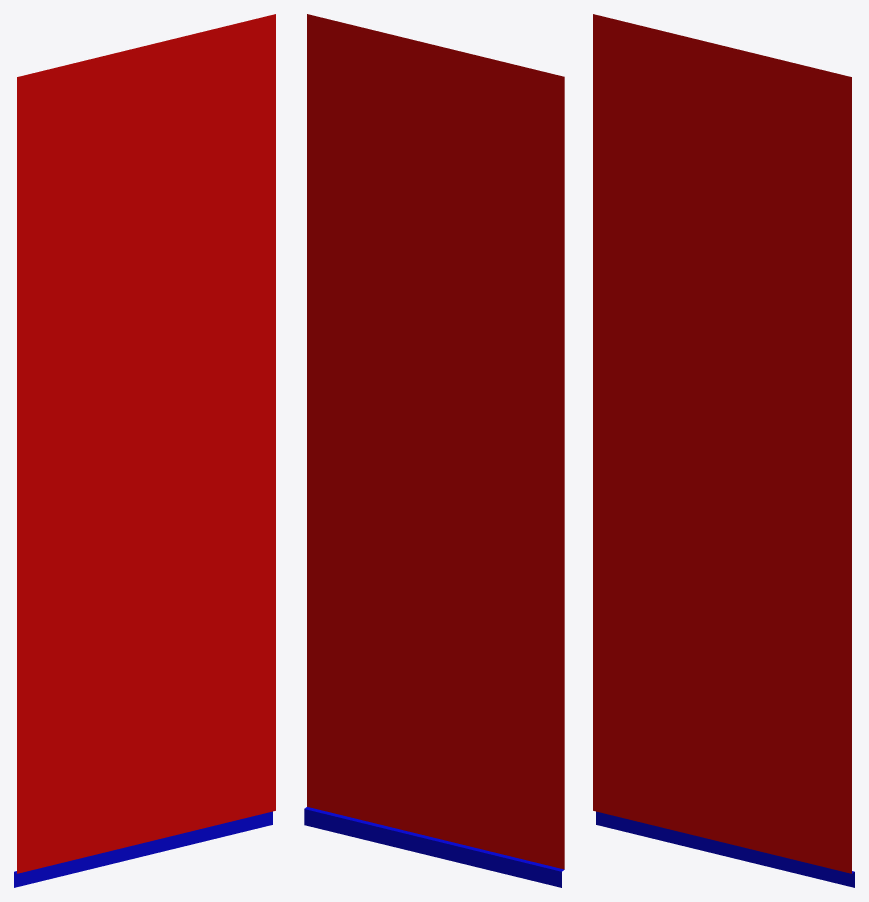
Rendered from HighWall.fbx.
The picture shows the model from 3 angles, left to right: view 1: azimuth 30°, elevation 25°; view 2: azimuth 150°, elevation 25°; view 3: azimuth 330°, elevation 25°; orthographic projection.
Visible parts, largest first — view 1: Plane.099; view 2: Plane.099; view 3: Plane.099.
Part boxes in pixels (left/top/right/bottom): Plane.099: left=14, top=14, right=275, bottom=887; Plane.099: left=304, top=14, right=564, bottom=887; Plane.099: left=593, top=14, right=854, bottom=887.
Size of the model in its own units: 1 by 3 by 0.02.
